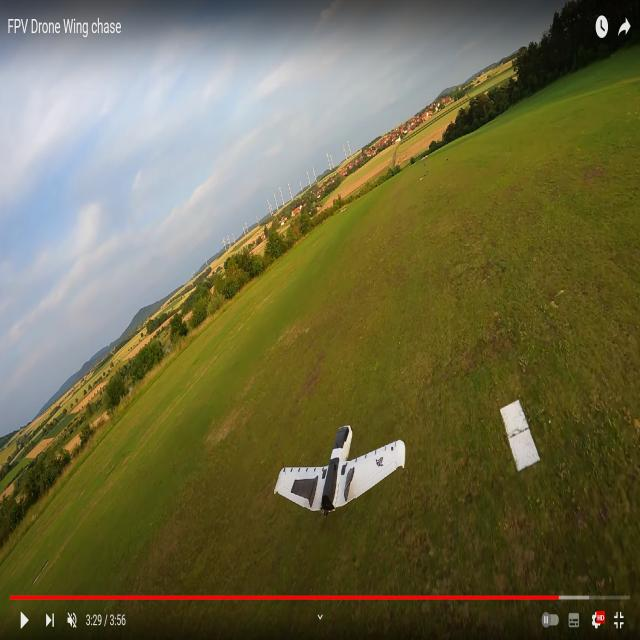iha: (273, 459, 405, 475)
